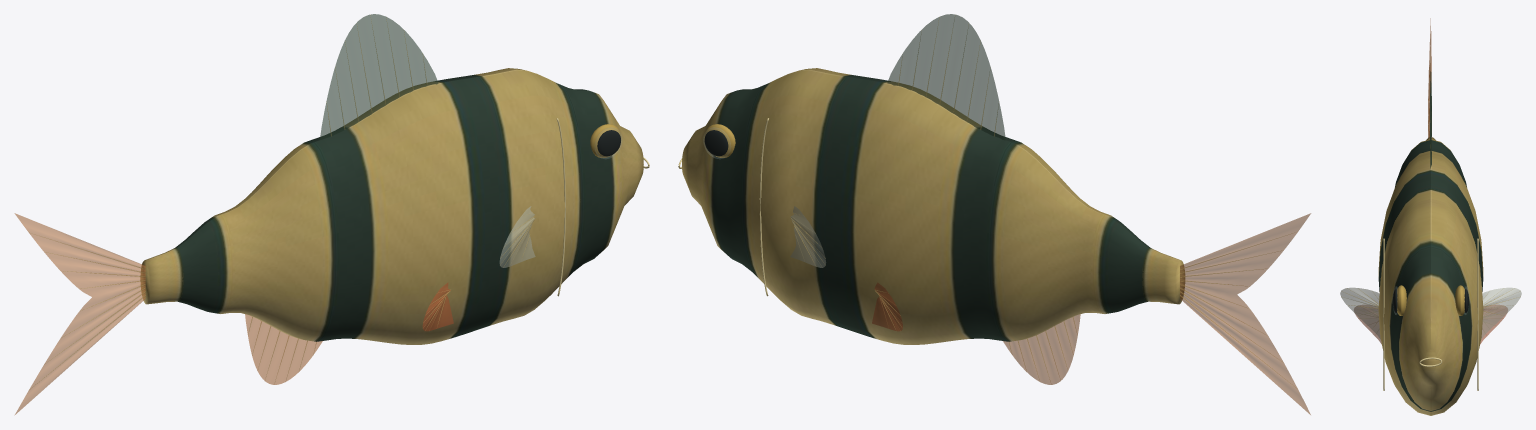
File: tiger-mobile.glb
3 renders of one model, left to right at view 1: azimuth 30°, elevation 25°; view 2: azimuth 150°, elevation 25°; view 3: azimuth 270°, elevation 25°, orthographic. The views are drawn at different scales.
Parts seen in each view (by area): view 1: skin, tail, dorsal, anal, dorsal-ray, pectoral-left, pelvic-left; view 2: skin, tail, dorsal, anal, dorsal-ray, pectoral-left, pelvic-left; view 3: skin, pectoral-left, pelvic-left, operculum, eye-iris--1, tail, dorsal-ray, eye-pupil--1, dorsal.
Part boxes in pixels (bbox=[...]): skin: bbox=[140, 68, 643, 344]; tail: bbox=[14, 213, 145, 414]; dorsal: bbox=[320, 14, 438, 139]; anal: bbox=[245, 314, 322, 384]; dorsal-ray: bbox=[29, 15, 534, 387]; pectoral-left: bbox=[499, 206, 535, 267]; pelvic-left: bbox=[422, 283, 453, 331]; skin: bbox=[682, 68, 1184, 344]; tail: bbox=[1180, 213, 1310, 414]; dorsal: bbox=[887, 14, 1005, 140]; anal: bbox=[1003, 314, 1080, 384]; dorsal-ray: bbox=[791, 15, 1285, 379]; pectoral-left: bbox=[790, 206, 825, 267]; pelvic-left: bbox=[872, 282, 902, 331]; skin: bbox=[1378, 137, 1483, 415]; pectoral-left: bbox=[1340, 287, 1521, 338]; pelvic-left: bbox=[1354, 305, 1507, 343]; operculum: bbox=[1383, 238, 1478, 390]; eye-iris--1: bbox=[1397, 285, 1464, 315]; tail: bbox=[1428, 18, 1431, 137]; dorsal-ray: bbox=[1341, 120, 1520, 327]; eye-pupil--1: bbox=[1393, 289, 1468, 312]; dorsal: bbox=[1430, 71, 1431, 168].
Bounding box in the file's own units: 0.6032 × 0.3186 × 0.1766.
11 materials, 1 textured.
